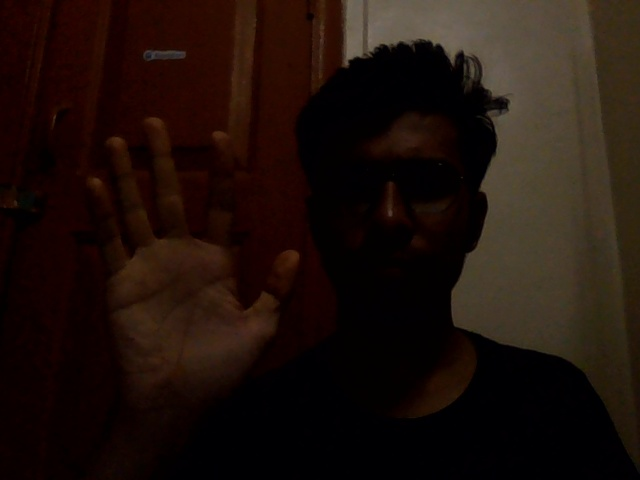Hello: (73, 103, 306, 423)
